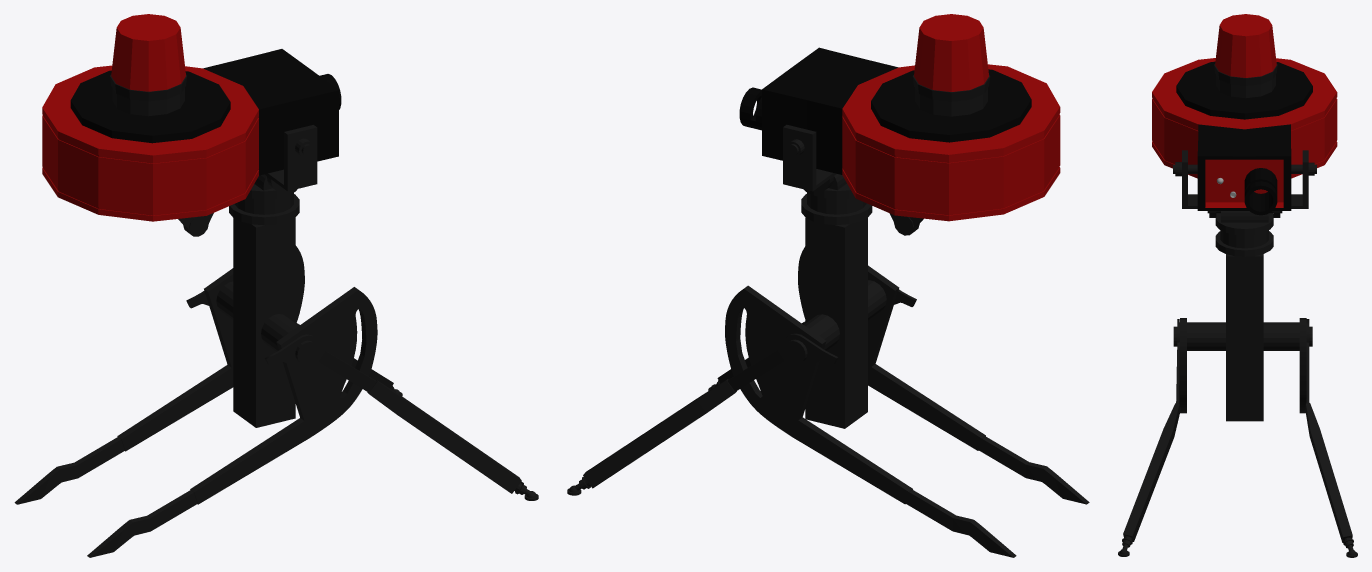
File: Sentry Gun Model.FBX
3 views of the same model, side by side, from view 1: azimuth 30°, elevation 25°; view 2: azimuth 150°, elevation 25°; view 3: azimuth 270°, elevation 25° (orthographic). The views are drawn at different scales.
Parts seen in each view (by area): view 1: Gengon001, Line001, Box002, Gengon016, Line002, Box003, Box001, Cylinder001, Gengon009, Gengon010, Cylinder002; view 2: Gengon001, Line002, Box002, Gengon016, Line001, Box004, Box001, Cylinder002, Gengon009, Gengon010, Gengon003, Cylinder001; view 3: Gengon001, Box002, Gengon016, Box003, Box004, Gengon003, Gengon009, Cylinder001, Cylinder002, Box001, Line002, Line001 (+2 smaller).
Part boxes in pixels (x1,y1,x2,y2): Gengon001: [42, 49, 338, 221]; Line001: [87, 287, 377, 557]; Box002: [233, 218, 295, 427]; Gengon016: [110, 14, 187, 116]; Line002: [14, 245, 304, 504]; Box003: [316, 348, 521, 493]; Box001: [265, 125, 317, 191]; Cylinder001: [261, 314, 320, 367]; Gengon009: [234, 184, 297, 214]; Gengon010: [229, 194, 299, 225]; Cylinder002: [186, 281, 233, 319]; Gengon001: [762, 47, 1060, 221]; Line002: [725, 285, 1016, 557]; Box002: [805, 217, 867, 428]; Gengon016: [912, 14, 990, 116]; Line001: [798, 246, 1089, 504]; Box004: [583, 347, 786, 488]; Box001: [783, 124, 836, 191]; Cylinder002: [782, 314, 839, 366]; Gengon009: [804, 183, 866, 214]; Gengon010: [801, 194, 872, 224]; Gengon003: [739, 87, 761, 130]; Cylinder001: [868, 280, 916, 319]; Gengon001: [1152, 58, 1337, 210]; Box002: [1226, 254, 1263, 421]; Gengon016: [1214, 14, 1277, 98]; Box003: [1123, 342, 1180, 541]; Box004: [1305, 342, 1352, 542]; Gengon003: [1244, 168, 1277, 215]; Gengon009: [1215, 213, 1273, 248]; Cylinder001: [1173, 319, 1225, 350]; Cylinder002: [1263, 319, 1312, 350]; Box001: [1182, 150, 1308, 208]; Line002: [1299, 318, 1306, 413]; Line001: [1180, 318, 1186, 413].
Size of the model in its own units: 304 by 344 by 185.
